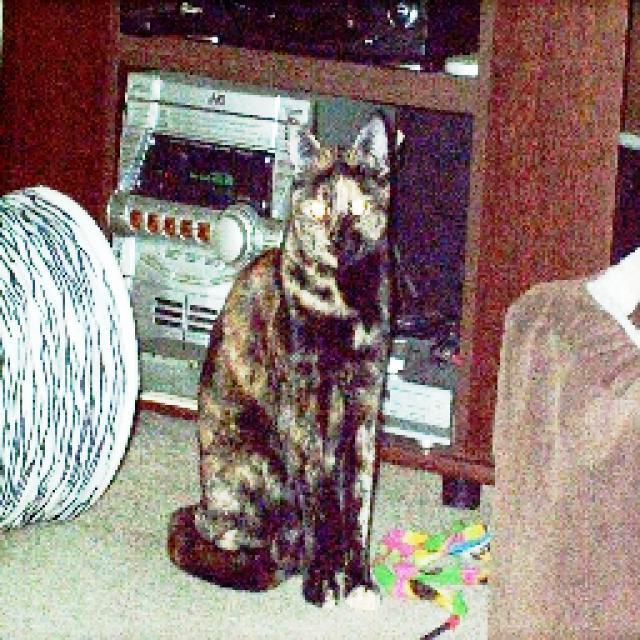cat: (160, 112, 390, 616)
